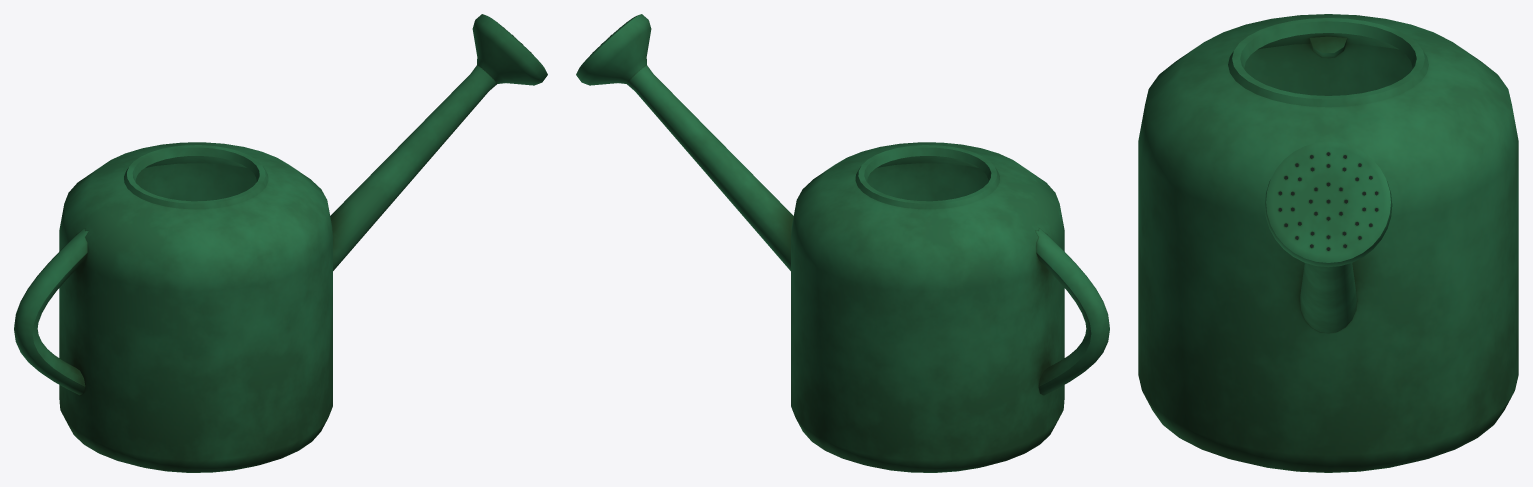
File: regador_sujo_realista.glb
3 renders of one model, left to right at view 1: azimuth 30°, elevation 25°; view 2: azimuth 150°, elevation 25°; view 3: azimuth 270°, elevation 25°, orthographic. The views are drawn at different scales.
Parts seen in each view (by area): view 1: Regador_PBR; view 2: Regador_PBR; view 3: Regador_PBR.
Part boxes in pixels (x1,y1,x2,y2): Regador_PBR: (14, 14, 547, 472); Regador_PBR: (576, 14, 1109, 472); Regador_PBR: (1138, 14, 1518, 472).
Size of the model in its own units: 0.6168 by 0.3764 by 0.28.
1 material, 1 textured.
